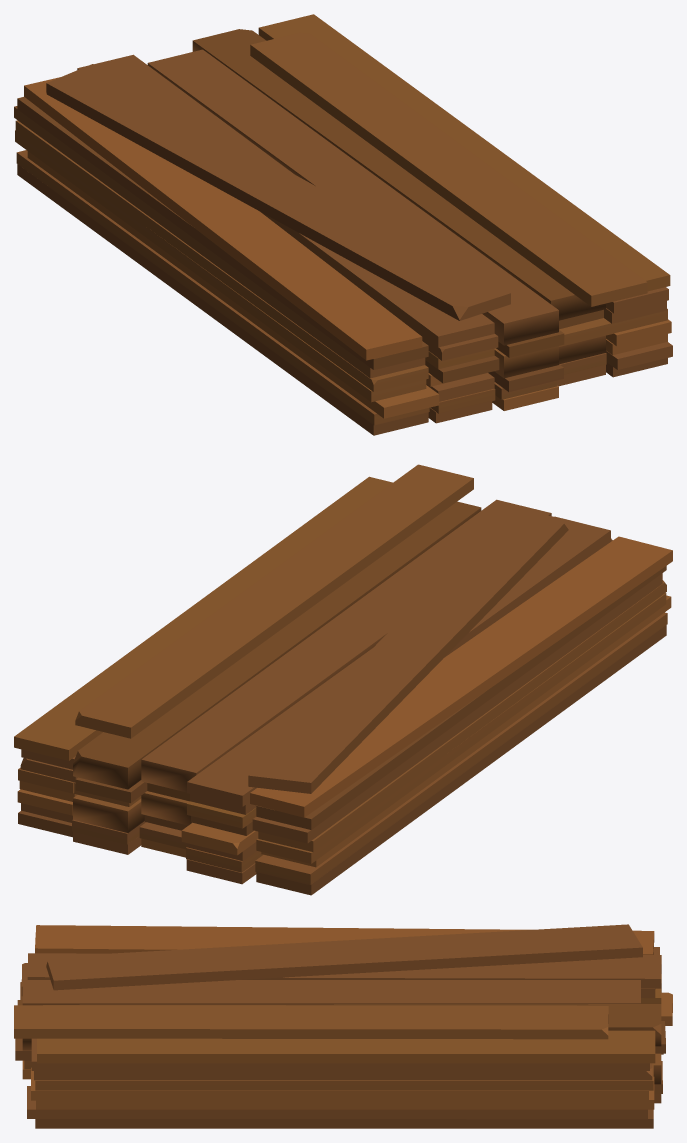
Rendered from Planks_3.fbx.
3 views of the same model, one above another, from view 1: azimuth 30°, elevation 25°; view 2: azimuth 150°, elevation 25°; view 3: azimuth 270°, elevation 25° (orthographic). The views are drawn at different scales.
Visible parts, largest first — view 1: Planks_3; view 2: Planks_3; view 3: Planks_3.
Boxes of the visible parts, <box> form: Planks_3: <box>14,14,672,435</box>; Planks_3: <box>14,464,672,895</box>; Planks_3: <box>14,924,672,1128</box>.
Size of the model in its own units: 133 by 41.32 by 288.
